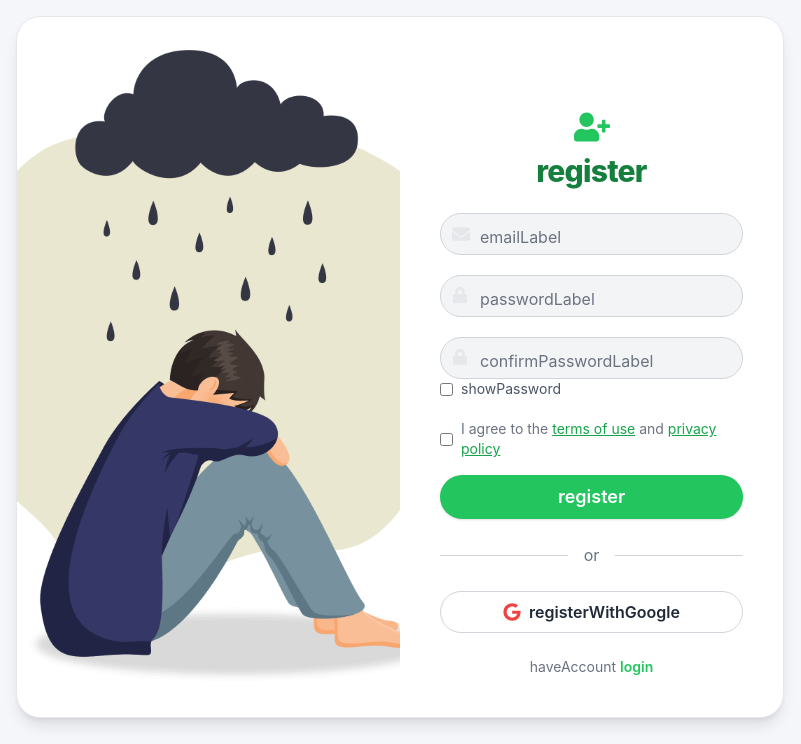
RegisterForm › prevents submission without agreeing to terms
Note: Password must meet strong password rule first
Type "test@example.com" into the field named "email".
click(592, 234); type("test@example.com")  # box 440,213 -> 743,255
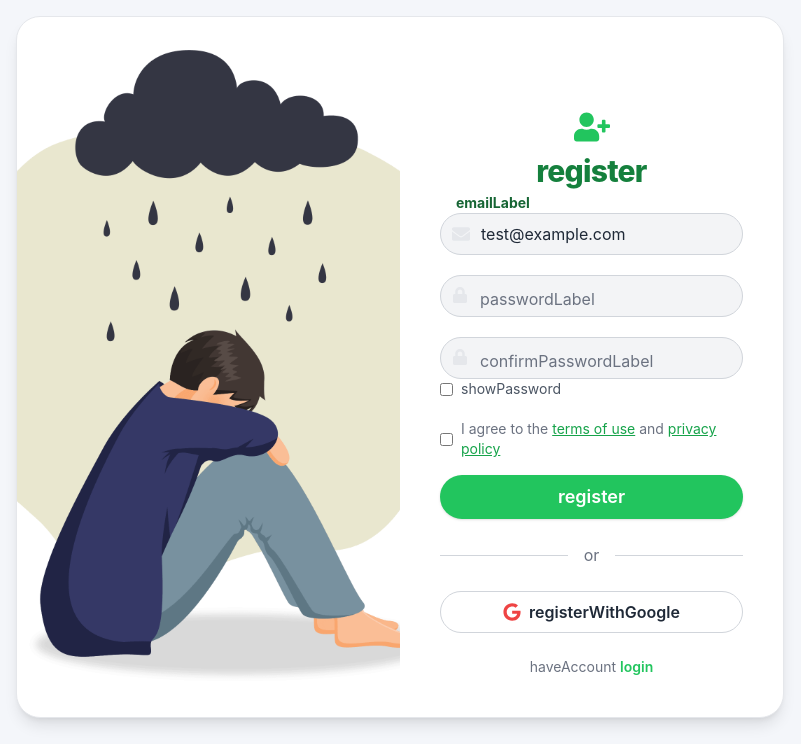
Type "Password123!" into the 1st password field named "password".
click(592, 296); type("Password123!")  # box 440,275 -> 743,317
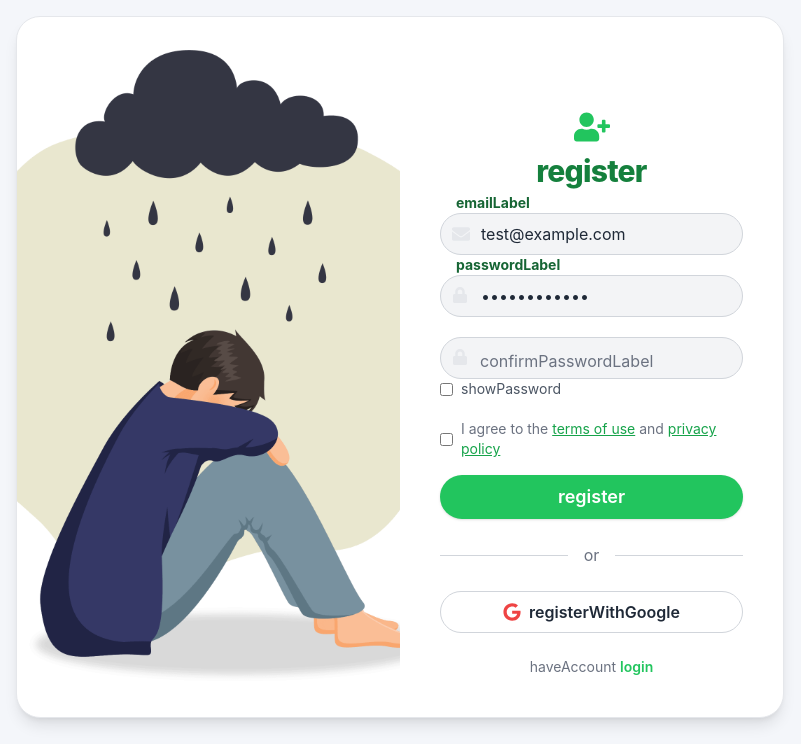
Type "Password123!" into the password field named "confirmPassword" next to "confirmPasswordLabel".
click(592, 358); type("Password123!")  # box 440,337 -> 743,379
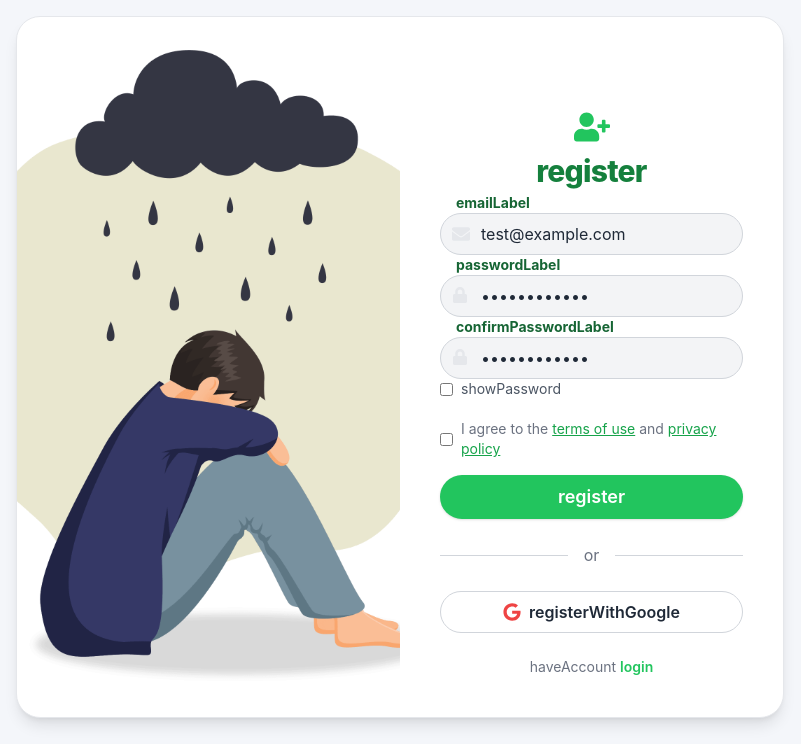
Click the button "register".
click(592, 497)  # box 440,475 -> 743,519
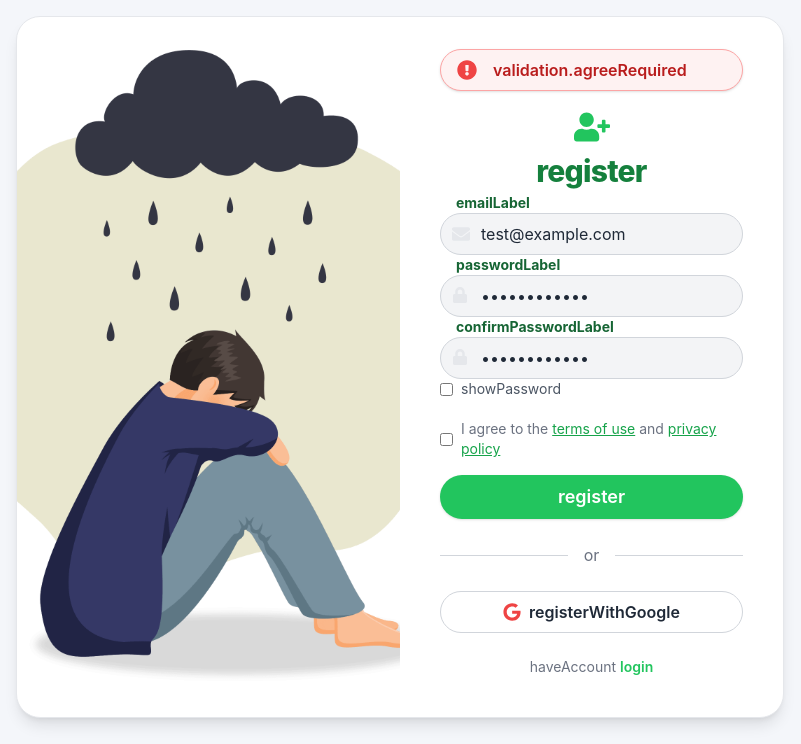
Now the text "validation.agreeRequired" is shown, box 493,58 -> 687,82
